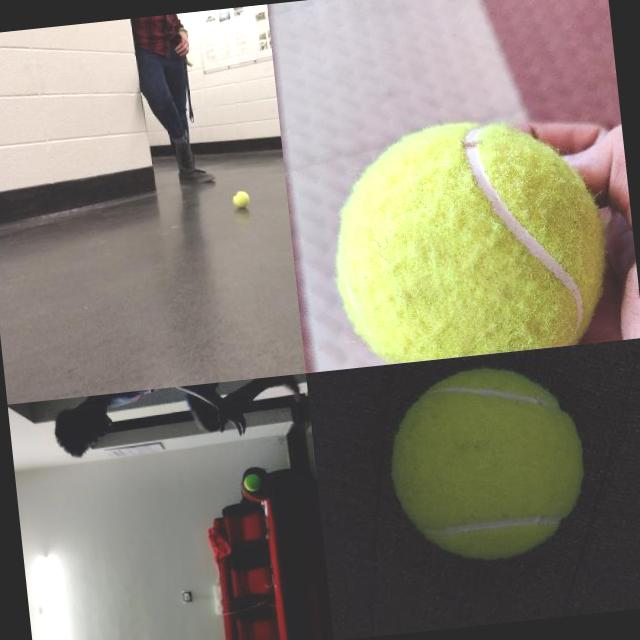tennis-ball: (318, 105, 616, 368), (380, 358, 592, 568), (242, 472, 262, 492), (231, 190, 250, 208)
